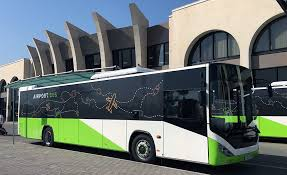bus: (18, 61, 259, 170), (248, 78, 287, 142)
